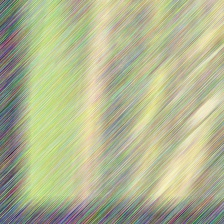Bacterial_Leaf_Blight: (61, 0, 92, 22), (55, 41, 73, 63)
